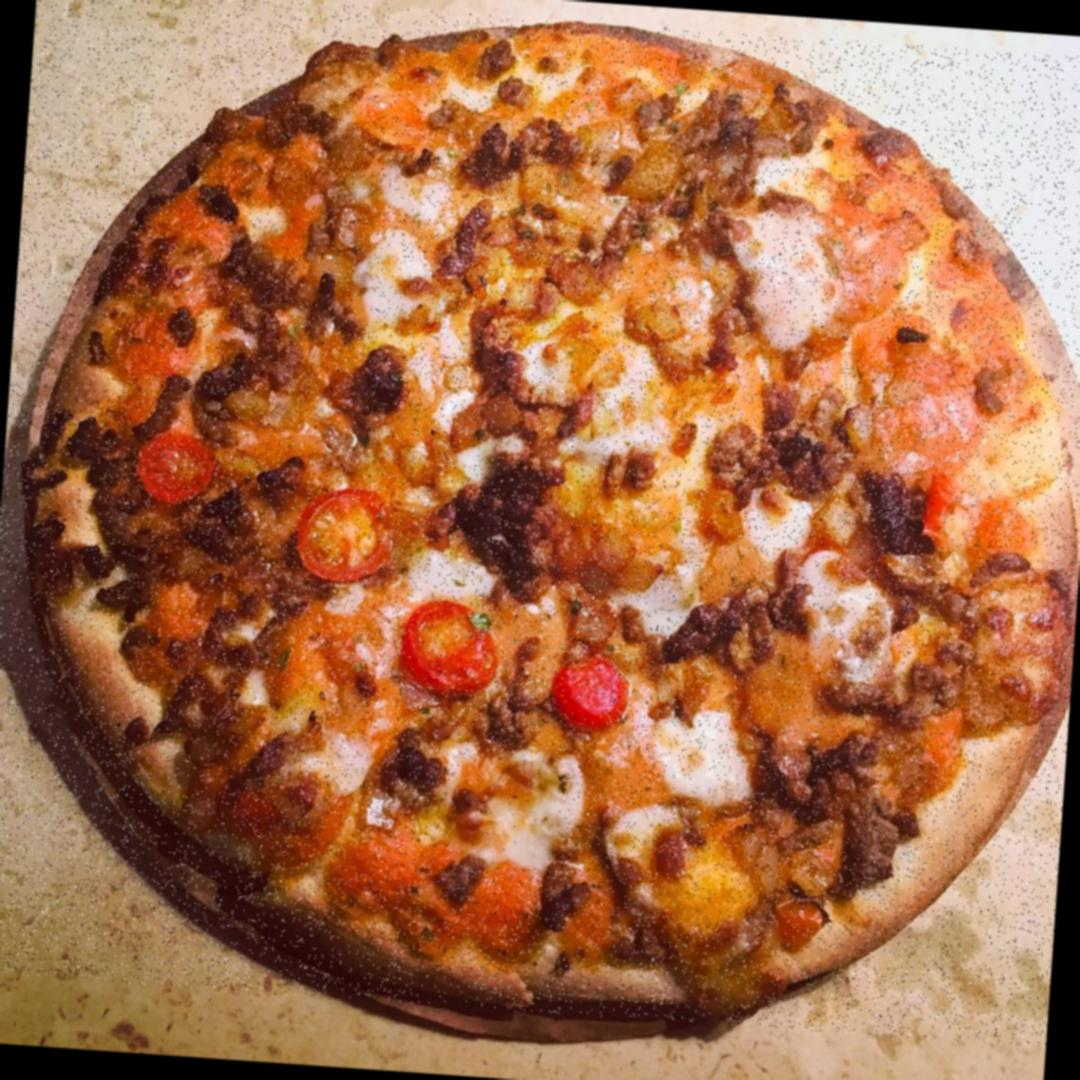Cheese: (533, 344, 660, 447), (732, 217, 834, 344), (802, 558, 900, 684), (454, 761, 566, 870), (656, 719, 749, 801), (362, 236, 430, 318)
Pizza: (0, 0, 1080, 1047)
Tomatoes: (288, 484, 399, 584), (394, 601, 503, 696), (133, 430, 224, 506), (550, 660, 633, 730), (769, 894, 834, 953), (924, 468, 962, 548)
